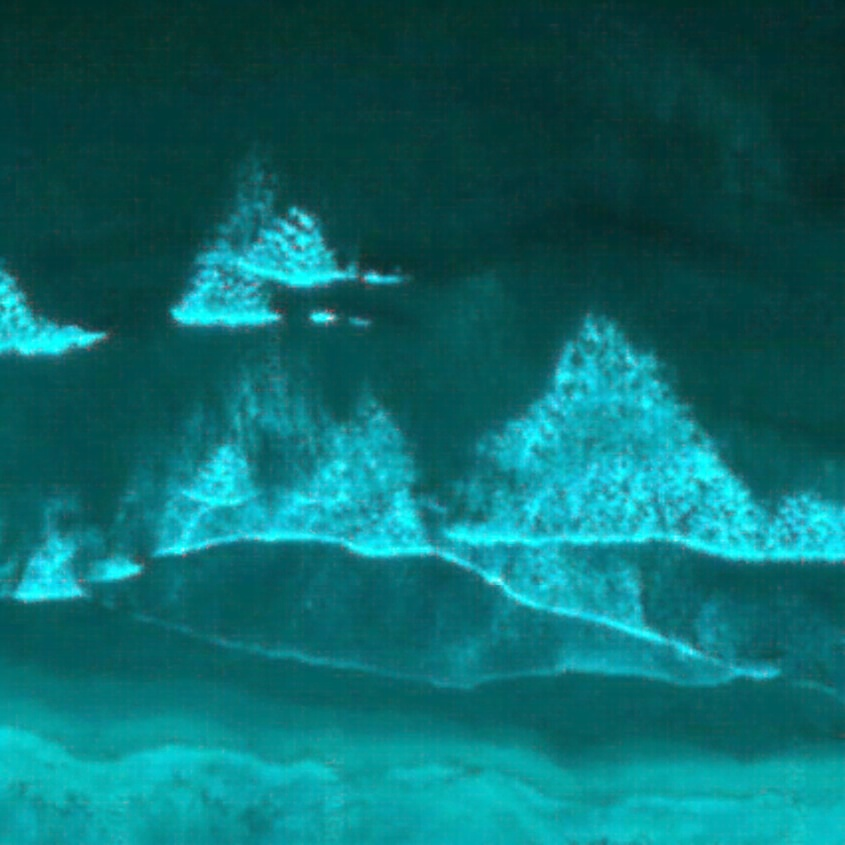rip_current: (349, 240, 559, 553)
